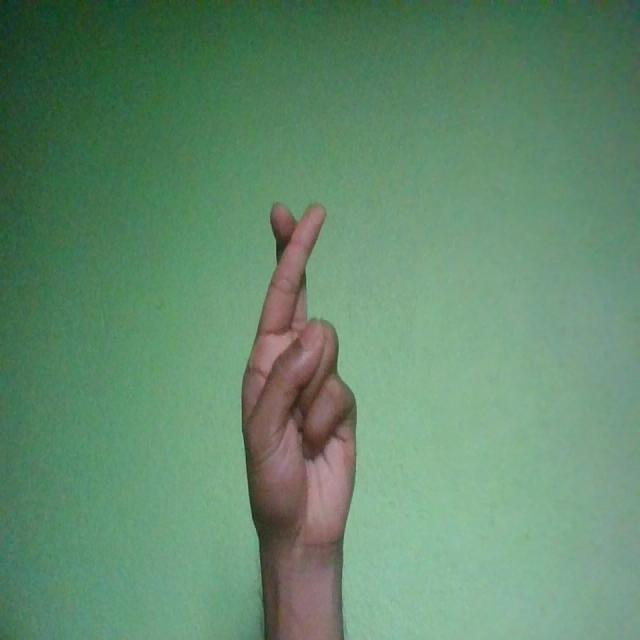Ok: (240, 200, 357, 558)
